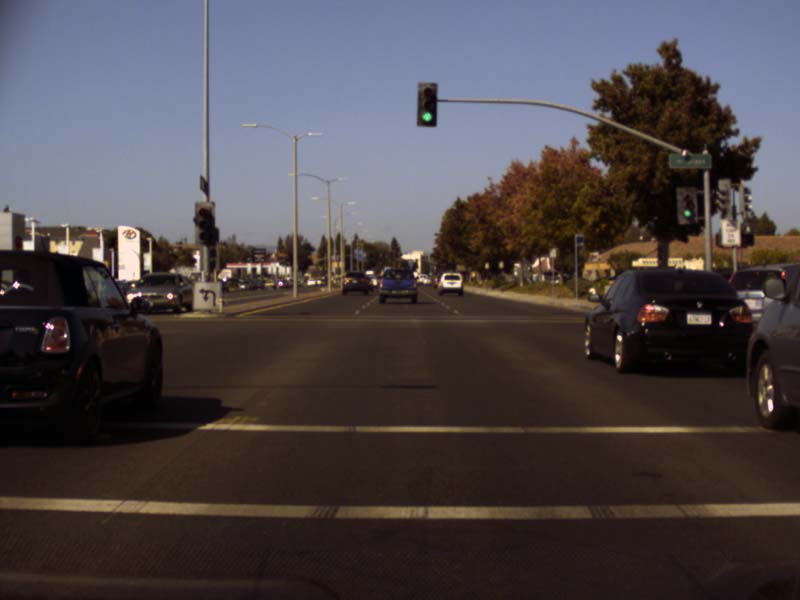Green: (416, 81, 436, 126), (675, 186, 698, 225)
